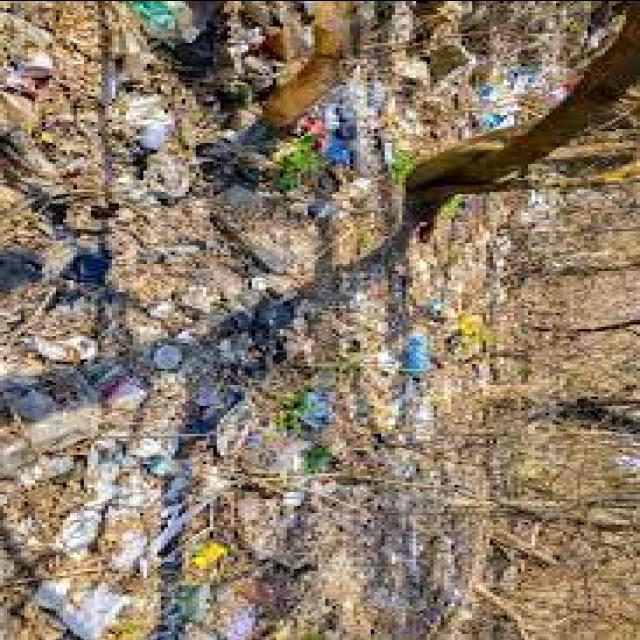garbage: (0, 0, 439, 640)
